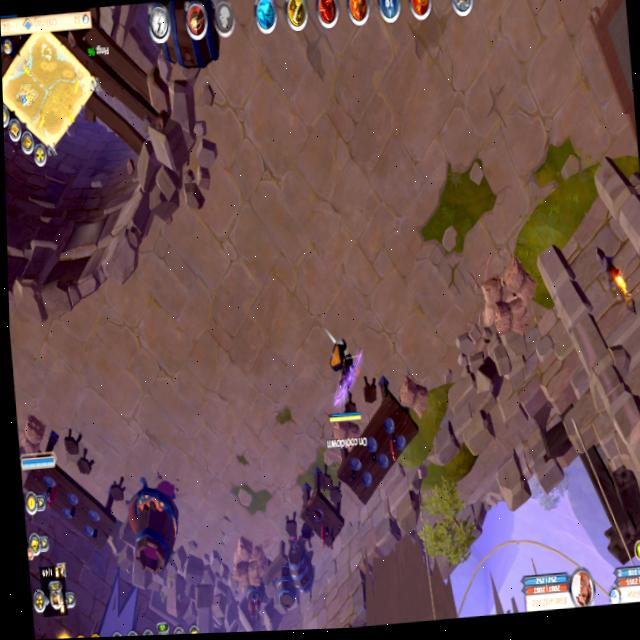red: (321, 331, 369, 429), (19, 442, 59, 476)
